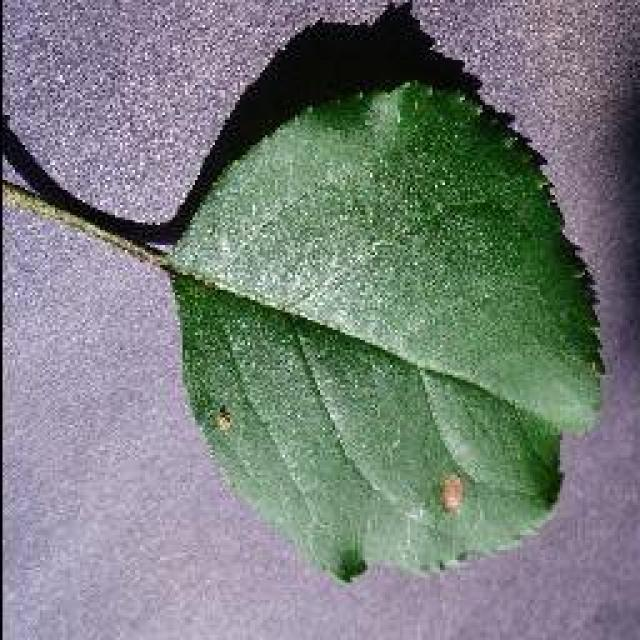Black_rot: (0, 0, 608, 585)
